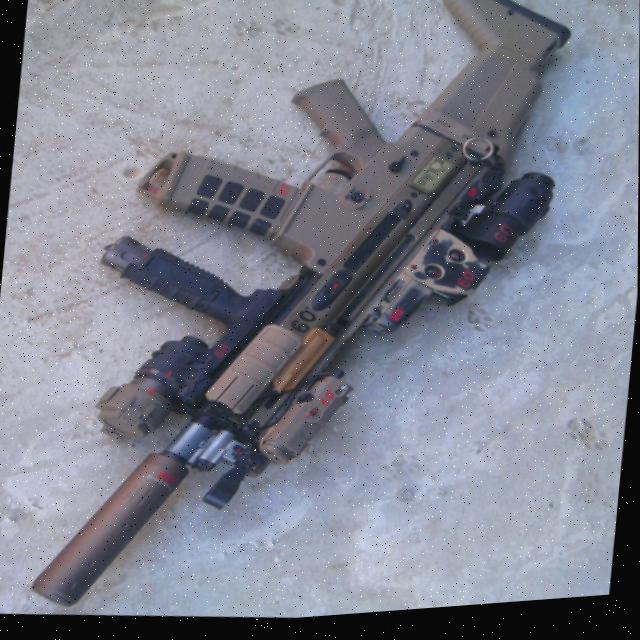firearm: (28, 0, 576, 638)
